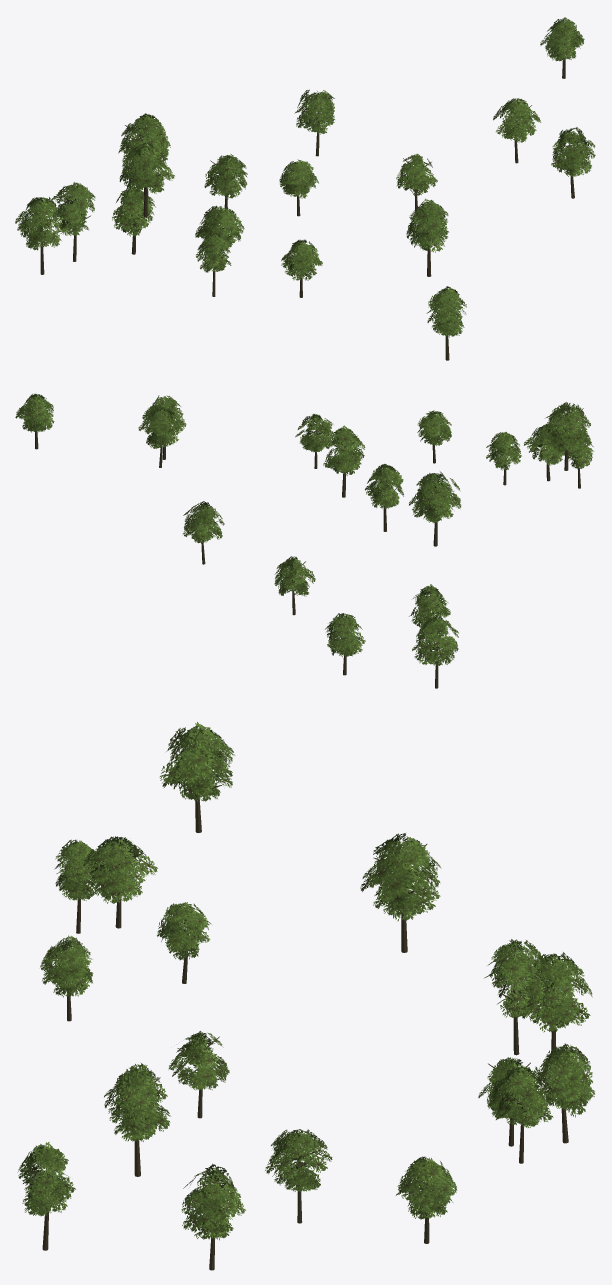
The model's file is TRB8-FOREST-CHUNK-3-0.glb.
3 renders of one model, top to bottom at view 1: azimuth 30°, elevation 25°; view 2: azimuth 150°, elevation 25°; view 3: azimuth 270°, elevation 25°, orthographic. The views are drawn at different scales.
Parts seen in each view (by area): view 1: TRB8-FOREST-CHUNK-3-0; view 2: TRB8-FOREST-CHUNK-3-0; view 3: TRB8-FOREST-CHUNK-3-0.
Boxes of the visible parts, x1,y1,x2,y2 form: TRB8-FOREST-CHUNK-3-0: (15, 17, 595, 360); TRB8-FOREST-CHUNK-3-0: (15, 393, 593, 688); TRB8-FOREST-CHUNK-3-0: (17, 722, 594, 1270).
Bounding box in the file's own units: 37.99 × 15.97 × 24.26.
2 materials, 1 textured.
